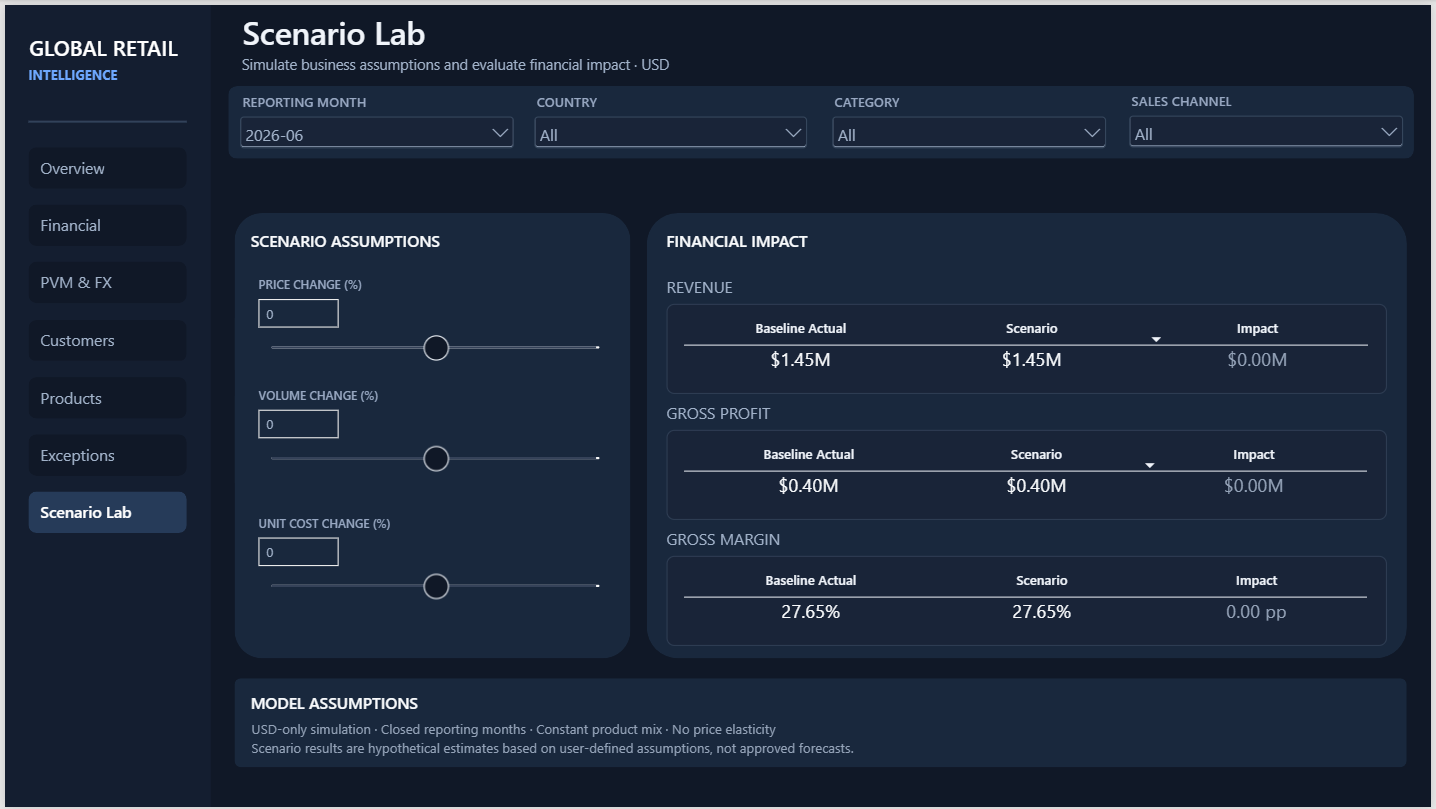

Layout of this report page (visuals, bound fields, positions):
{"tool":"powerbi","page":{"name":"Scenario Lab","canvas":[1440,810],"ordinal":6},"visuals":[{"type":"shape","title":"Sidebar Background","box":[0,0,208,810],"z":0},{"type":"textbox","title":"Sidebar Brand Title","box":[24.1,28,168,30],"z":1000},{"type":"textbox","title":"Sidebar Brand Subtitle","box":[24,60,168,22],"z":2000},{"type":"shape","title":"Line","box":[24,112,160,12],"z":3000},{"type":"pageNavigator","box":[24,144,160,392],"z":4000},{"type":"shape","box":[225.3,81.6,1197.7,73.6],"z":5000},{"type":"textbox","title":"Header Page Title","box":[240,5.6,648.9,53.3],"z":6000},{"type":"textbox","title":"Header Subtitle","box":[238.9,50,650,27.8],"z":7000},{"type":"shape","box":[648,210,768,450],"z":8000},{"type":"slicer","fields":{"Values":["DimDate.YearMonth"]},"box":[232.1,87.9,287.4,67.2],"z":9000},{"type":"slicer","fields":{"Values":["DimCountry.country_name"]},"box":[529.4,87.9,286.4,67.2],"z":10000},{"type":"slicer","fields":{"Values":["DimCategory.category_name"]},"box":[829.6,87.9,287.4,67.2],"z":11000},{"type":"slicer","fields":{"Values":["DimSalesChannel.sales_channel_name"]},"box":[1129.9,86.9,287.4,68.1],"z":12000},{"type":"shape","box":[232,210,400,450],"z":13000},{"type":"textbox","box":[248,226,350,28],"z":14000},{"type":"slicer","fields":{"Values":["ScenarioPriceChange.Value"]},"box":[248.3,273.6,367.8,97.7],"z":15000},{"type":"slicer","fields":{"Values":["ScenarioVolumeChange.Value"]},"box":[248.3,385.1,367.8,97.7],"z":16000},{"type":"slicer","fields":{"Values":["ScenarioUnitCostChange.Value"]},"box":[248.3,514.9,367.8,97.7],"z":17000},{"type":"textbox","box":[668,226,350,28],"z":18000},{"type":"textbox","box":[668,273,250,24],"z":19000},{"type":"tableEx","fields":{"Values":["_Measures.Global Revenue USD","_Measures.Scenario Revenue USD","_Measures.Scenario Revenue Impact USD"]},"box":[667.8,302.2,727.8,91.1],"z":20000},{"type":"textbox","box":[668,400,250,24],"z":21000},{"type":"tableEx","fields":{"Values":["_Measures.Global Gross Profit USD","_Measures.Scenario Gross Profit USD","_Measures.Scenario Gross Profit Impact USD"]},"box":[668,429,727.8,91.1],"z":22000},{"type":"textbox","box":[668,527,250,24.4],"z":23000},{"type":"tableEx","fields":{"Values":["_Measures.Global Gross Margin %","_Measures.Scenario Gross Margin %","_Measures.Scenario Gross Margin Impact pp"]},"box":[668,556,727.8,91.1],"z":24000},{"type":"shape","box":[232.2,680,1184,90],"z":25000},{"type":"textbox","box":[248,694,350,24],"z":26000},{"type":"textbox","title":"Header Subtitle","box":[248.9,721,1135,42],"z":27000}]}

Visuals, with their boxes in screenshot pixels (x1, y1, x2, y2), scaled from the page's 1440x810 canvas onto the 1436x809 screenshot:
"Sidebar Background" shape: left=0, top=0, right=207, bottom=808
"Sidebar Brand Title" textbox: left=24, top=28, right=192, bottom=58
"Sidebar Brand Subtitle" textbox: left=24, top=60, right=191, bottom=82
"Line" shape: left=24, top=112, right=183, bottom=124
pageNavigator: left=24, top=144, right=183, bottom=535
shape: left=225, top=81, right=1419, bottom=155
"Header Page Title" textbox: left=239, top=6, right=886, bottom=59
"Header Subtitle" textbox: left=238, top=50, right=886, bottom=78
shape: left=646, top=210, right=1412, bottom=659
slicer - DimDate.YearMonth: left=231, top=88, right=518, bottom=155
slicer - DimCountry.country_name: left=528, top=88, right=814, bottom=155
slicer - DimCategory.category_name: left=827, top=88, right=1114, bottom=155
slicer - DimSalesChannel.sales_channel_name: left=1127, top=87, right=1413, bottom=155
shape: left=231, top=210, right=630, bottom=659
textbox: left=247, top=226, right=596, bottom=254
slicer - ScenarioPriceChange.Value: left=248, top=273, right=614, bottom=371
slicer - ScenarioVolumeChange.Value: left=248, top=385, right=614, bottom=482
slicer - ScenarioUnitCostChange.Value: left=248, top=514, right=614, bottom=612
textbox: left=666, top=226, right=1015, bottom=254
textbox: left=666, top=273, right=915, bottom=297
tableEx - _Measures.Global Revenue USD x _Measures.Scenario Revenue USD: left=666, top=302, right=1392, bottom=393
textbox: left=666, top=400, right=915, bottom=423
tableEx - _Measures.Global Gross Profit USD x _Measures.Scenario Gross Profit USD: left=666, top=428, right=1392, bottom=519
textbox: left=666, top=526, right=915, bottom=551
tableEx - _Measures.Global Gross Margin % x _Measures.Scenario Gross Margin %: left=666, top=555, right=1392, bottom=646
shape: left=232, top=679, right=1412, bottom=769
textbox: left=247, top=693, right=596, bottom=717
"Header Subtitle" textbox: left=248, top=720, right=1380, bottom=762
